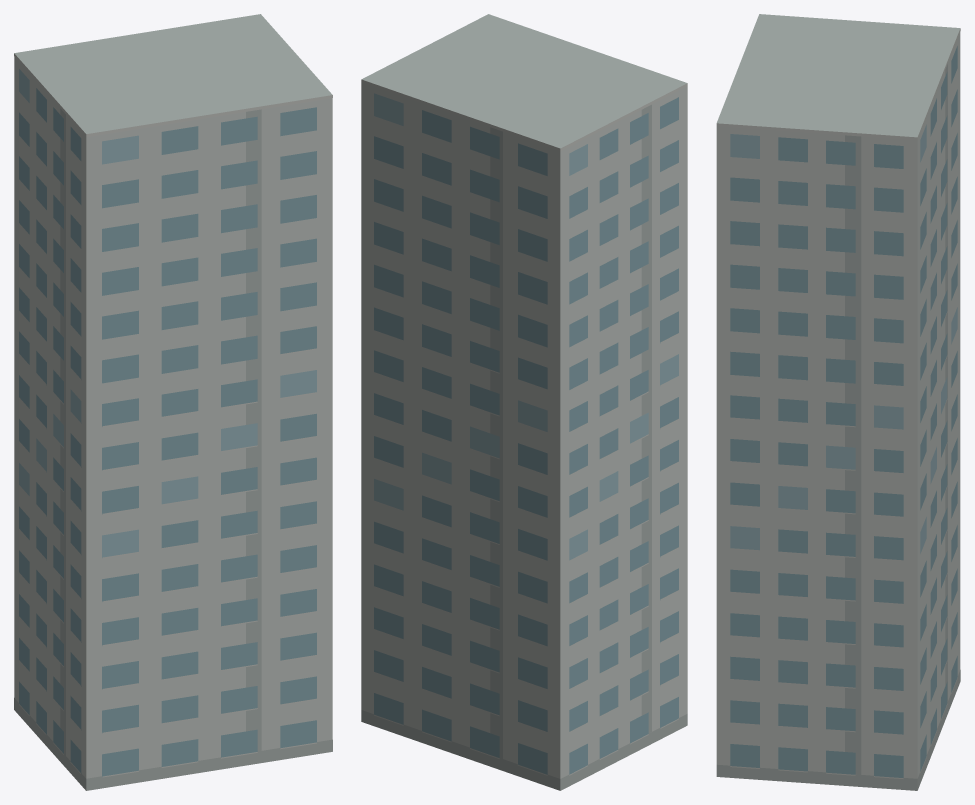
File: residential-73a1775e-c2ec-4fc4-a050-2f93dd2e3d3d.glb
3 renders of one model, left to right at view 1: azimuth 30°, elevation 25°; view 2: azimuth 150°, elevation 25°; view 3: azimuth 270°, elevation 25°, orthographic. The views are drawn at different scales.
Parts seen in each view (by area): view 1: residential-73a1775e-c2ec-4fc4-a050-2f93dd2e3d3d.tmp; view 2: residential-73a1775e-c2ec-4fc4-a050-2f93dd2e3d3d.tmp; view 3: residential-73a1775e-c2ec-4fc4-a050-2f93dd2e3d3d.tmp.
Part boxes in pixels (x1=…): residential-73a1775e-c2ec-4fc4-a050-2f93dd2e3d3d.tmp: x1=14, y1=14, x2=332, y2=790; residential-73a1775e-c2ec-4fc4-a050-2f93dd2e3d3d.tmp: x1=361, y1=14, x2=687, y2=790; residential-73a1775e-c2ec-4fc4-a050-2f93dd2e3d3d.tmp: x1=716, y1=14, x2=960, y2=790.
Size of the model in its own units: 21.06 by 52 by 17.6.
